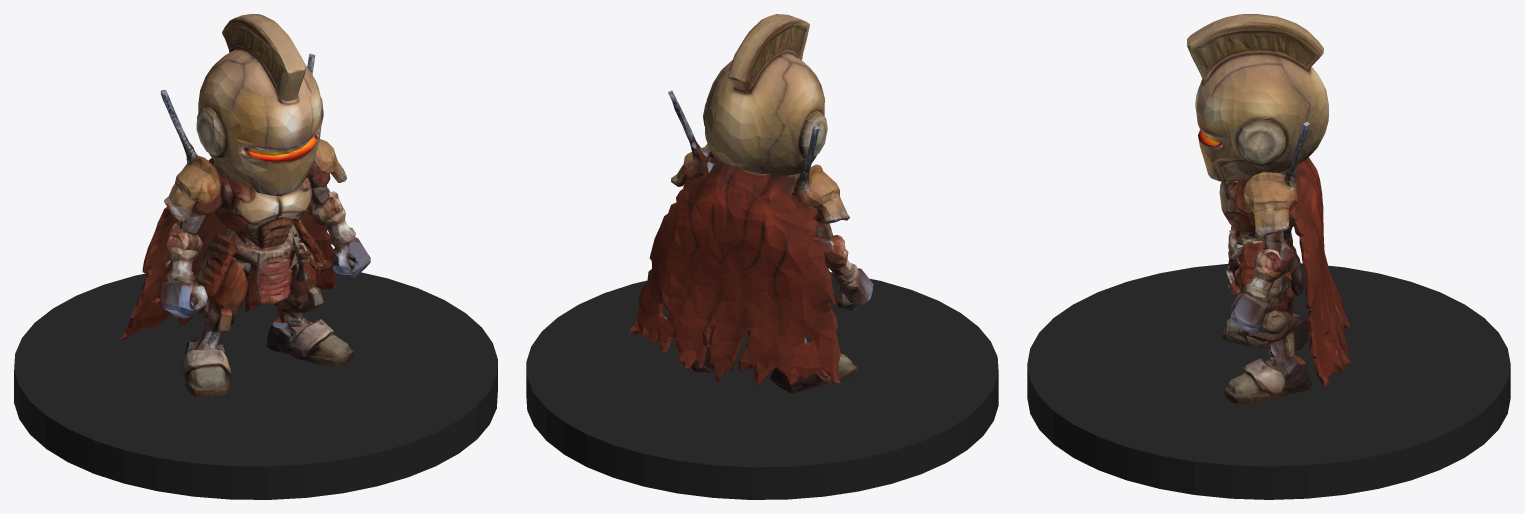
The model's file is hc-sicarian-infiltrator-princeps.glb.
3 views of the same model, side by side, from view 1: azimuth 30°, elevation 25°; view 2: azimuth 150°, elevation 25°; view 3: azimuth 270°, elevation 25° (orthographic). The views are drawn at different scales.
Visible parts, largest first — view 1: base, figure; view 2: base, figure; view 3: base, figure.
Part boxes in pixels (x1,y1,x2,y2): base: (14,272,497,499); figure: (120,14,370,397); base: (526,272,998,499); figure: (629,14,873,392); base: (1027,263,1510,499); figure: (1187,14,1350,404).
Bounding box in the file's own units: 1.57 × 1.37 × 1.57.
2 materials, 1 textured.
